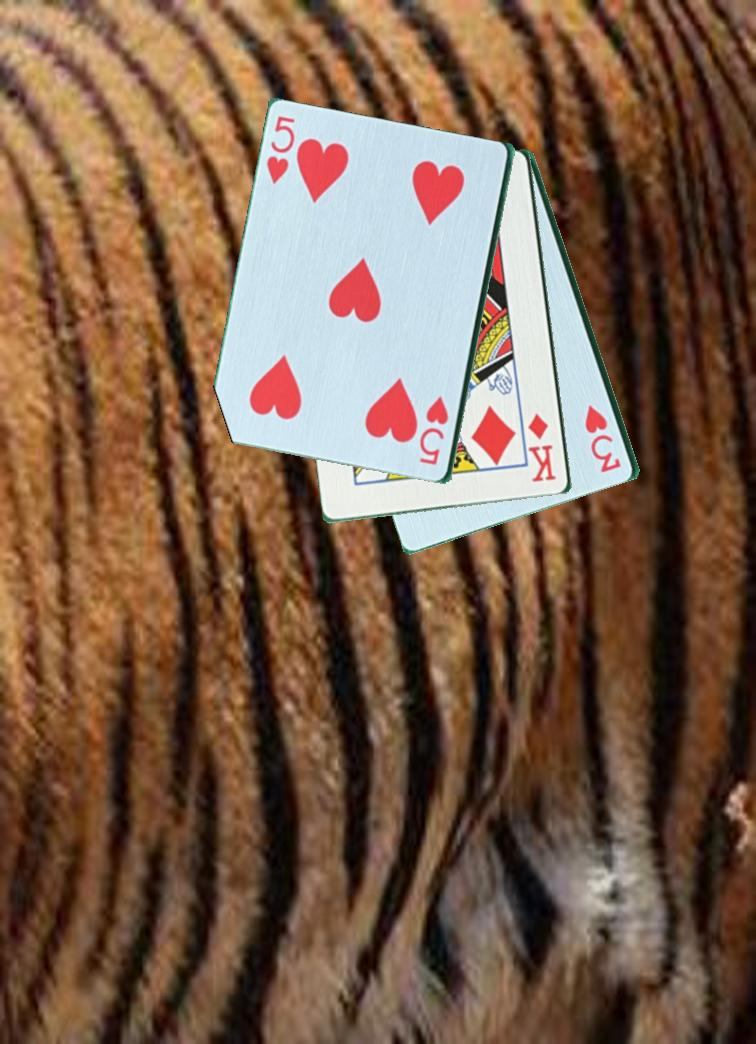3h: (582, 402, 625, 476)
5h: (263, 113, 299, 190), (416, 393, 452, 469)
kd: (526, 410, 560, 485)
